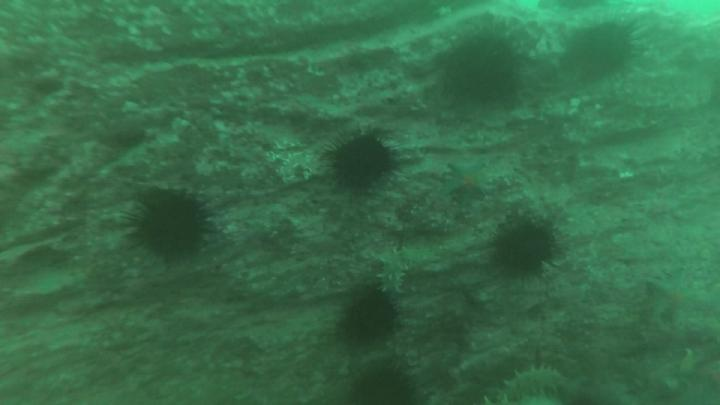echinus: (124, 186, 216, 269), (559, 7, 648, 89), (434, 28, 523, 110), (320, 127, 394, 198), (491, 212, 561, 287), (339, 290, 401, 353), (347, 363, 429, 405)
holothurian: (485, 357, 568, 405), (378, 242, 415, 297)
starfish: (436, 155, 501, 204)
